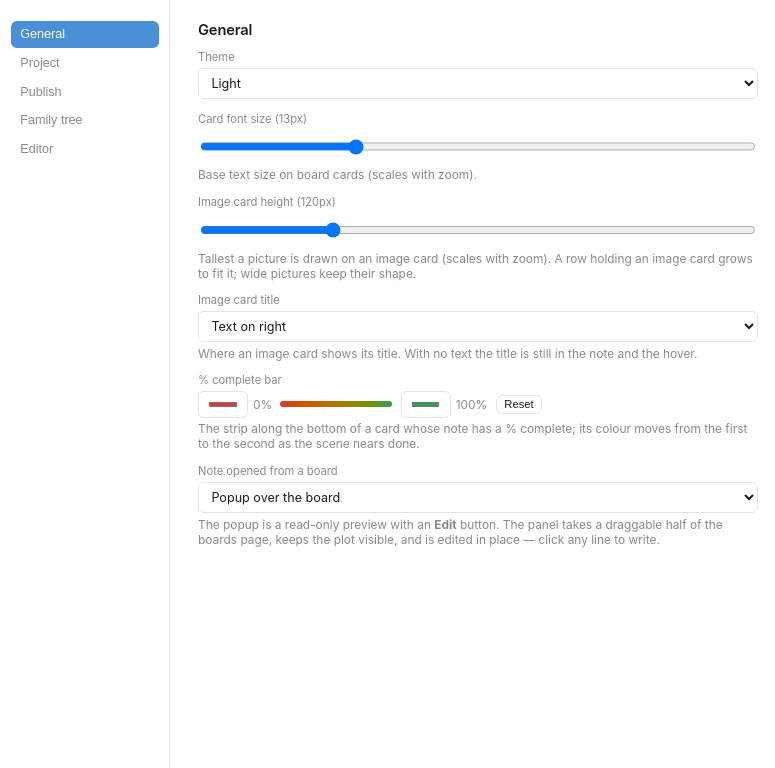
Scenario: Settings — project metadata › column levels (Issue #104) › shows every level a project has, outermost first
Click the tab "Project" at (84, 63), box [10,50,158,76]
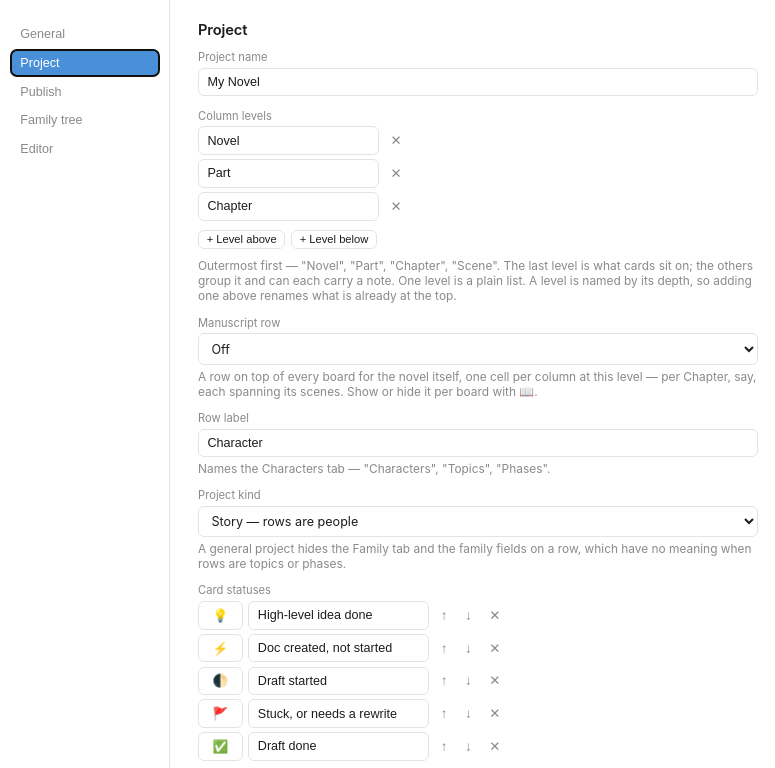
Now the field labelled "Project name" is not empty, box [198,68,758,96]
